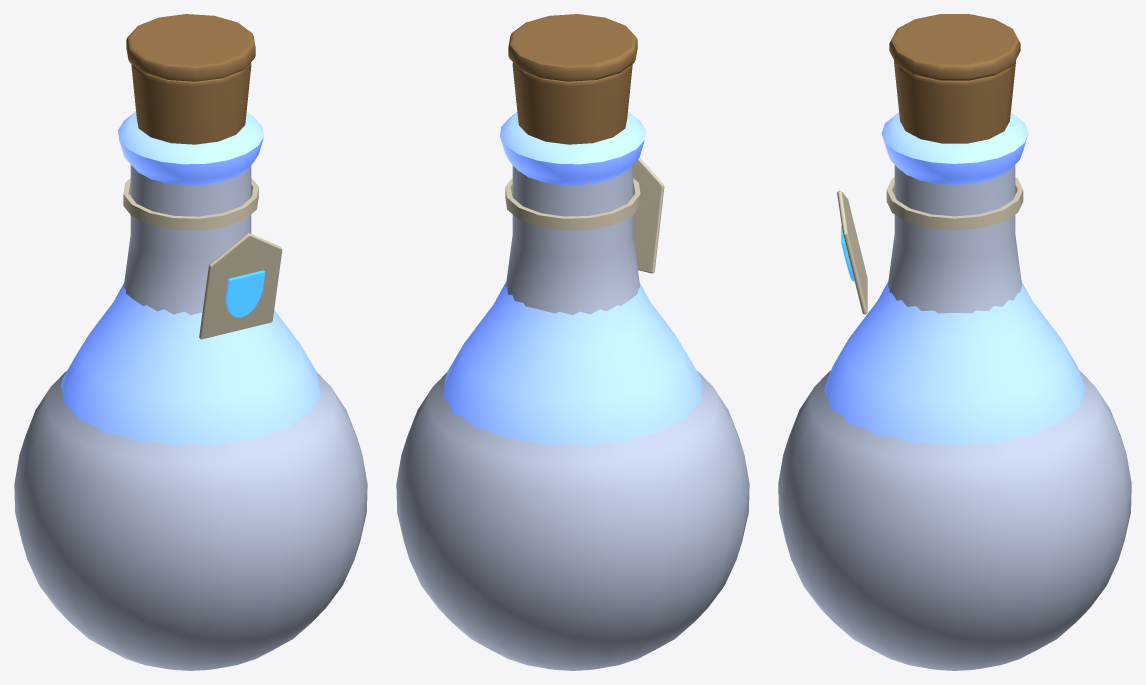
File: big.glb
3 views of the same model, side by side, from view 1: azimuth 30°, elevation 25°; view 2: azimuth 150°, elevation 25°; view 3: azimuth 270°, elevation 25° (orthographic).
Visible parts, largest first — view 1: glass.001, neck.001, cork, tag, emblem.001; view 2: glass.001, neck.001, cork, tag; view 3: glass.001, neck.001, cork, tag.
Part boxes in pixels (x1=…): glass.001: x1=14, y1=164, x2=367, y2=670; neck.001: x1=61, y1=111, x2=320, y2=446; cork: x1=126, y1=14, x2=255, y2=144; tag: x1=123, y1=178, x2=282, y2=339; emblem.001: x1=225, y1=270, x2=265, y2=317; glass.001: x1=396, y1=164, x2=749, y2=670; neck.001: x1=443, y1=111, x2=702, y2=446; cork: x1=508, y1=14, x2=637, y2=144; tag: x1=505, y1=157, x2=664, y2=273; glass.001: x1=778, y1=165, x2=1131, y2=670; neck.001: x1=824, y1=112, x2=1085, y2=445; cork: x1=889, y1=14, x2=1020, y2=143; tag: x1=837, y1=177, x2=1023, y2=314.
Bounding box in the file's own units: 0.2694 × 0.5178 × 0.2694.
